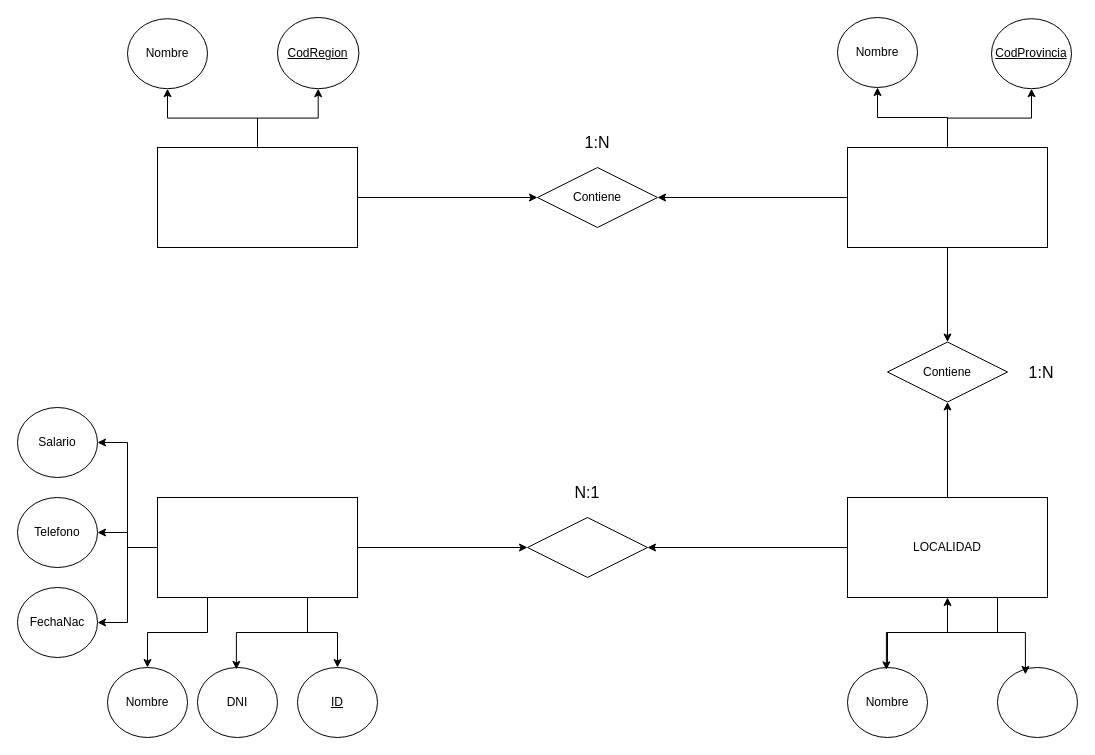
Some shapes in this 1095 by 755 pixel diagram are drawn without their labels. Here are the shapes that lost their labels. From the top down, the box of each, then its label:
(156, 146, 358, 248): REGION
(846, 146, 1048, 248): PORVINCIA
(156, 496, 358, 598): EMPLEADO
(526, 516, 648, 578): Pertenece
(996, 666, 1078, 738): CodLocalidad
